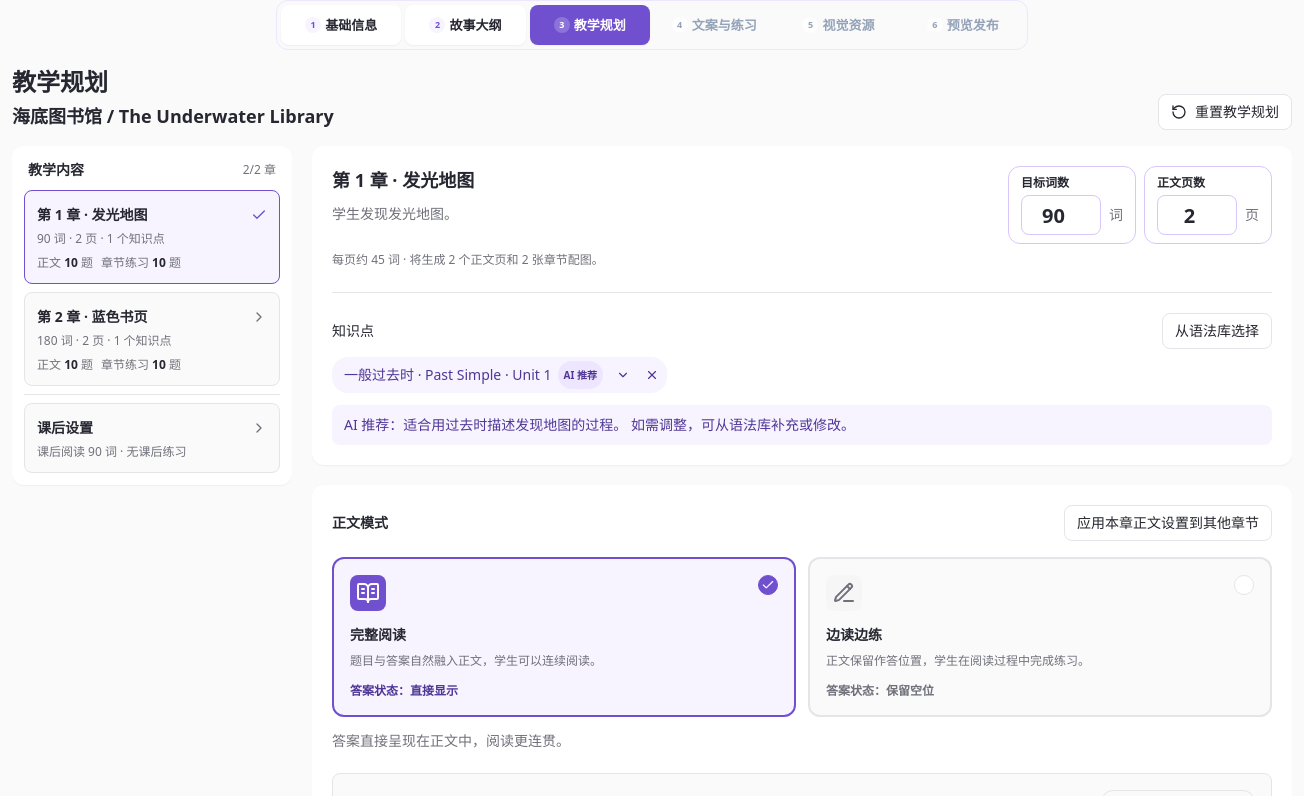
Test: CourseTeachingPlanWorkspace › recommends two pages for A2 90 words and preserves a teacher page choice after word edits
The image size is (1304, 796).
Expected: the text "每页约 45 词 · 将生成 2 个正文页和 2 张章节配图。" is shown, [332, 251, 604, 268]
Replace the text in the number field named "第 1 章正文页数" with "1". click: coordinates (1197, 215)
box: [1157, 195, 1237, 235]
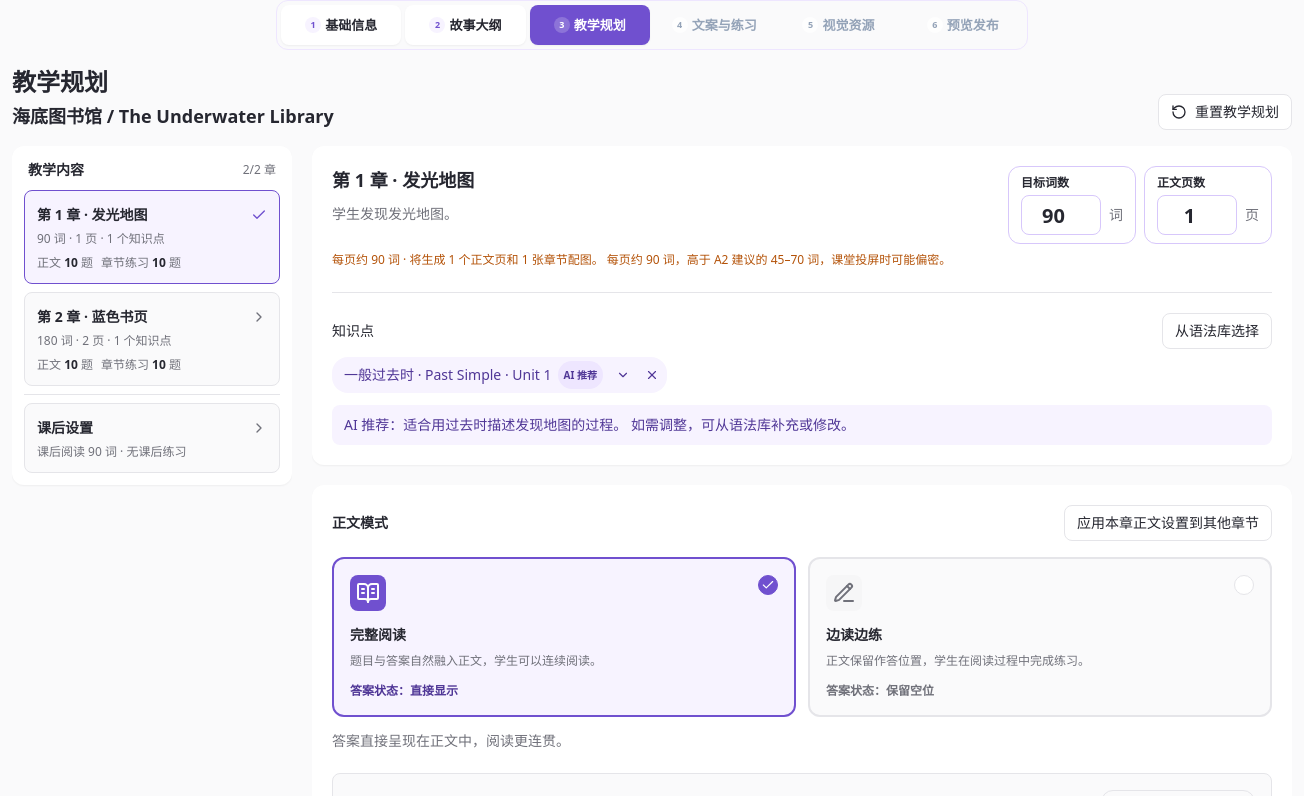
Replace the text in the number field named "第 1 章目标词数" with "120". click: coordinates (1061, 215)
box: [1021, 195, 1101, 235]
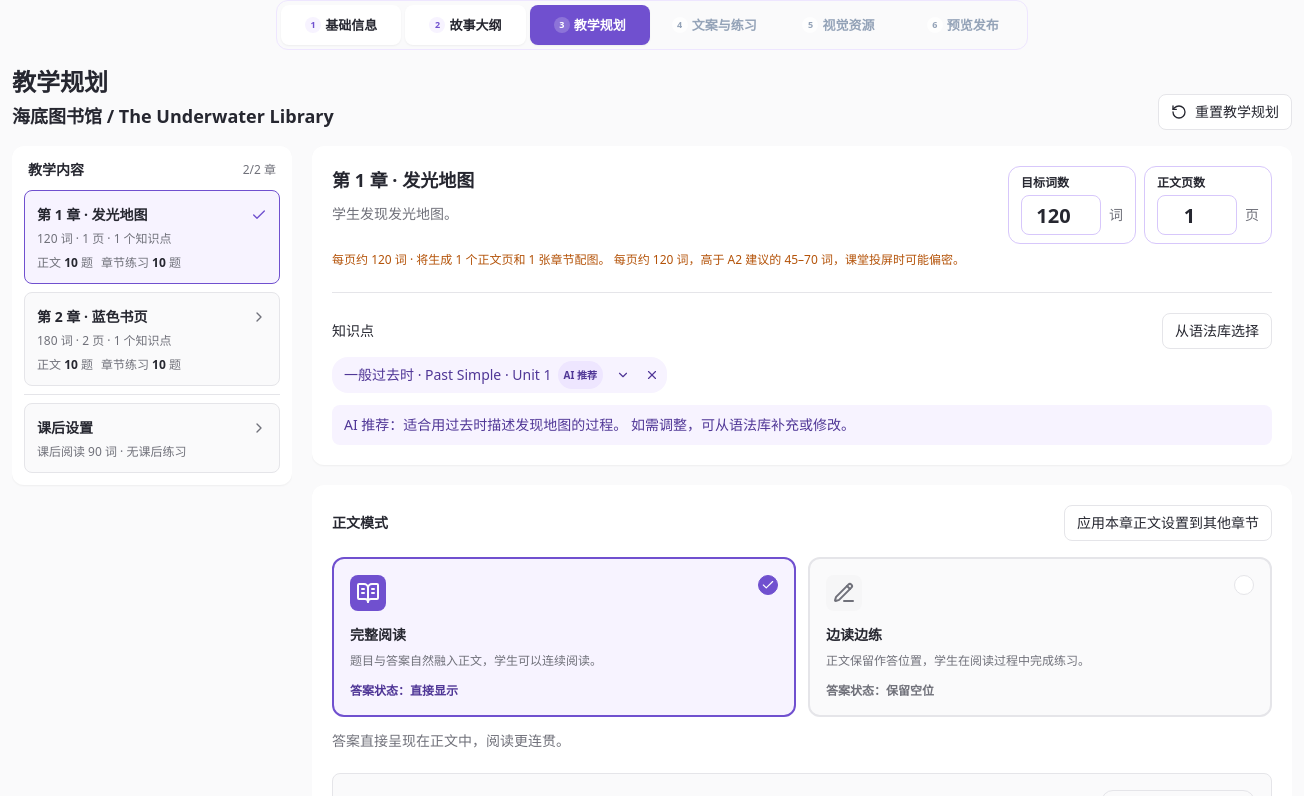
Expected: the text "每页约 120 词，高于 A2 建议的 45–70 词" is shown, [610, 251, 965, 268]
